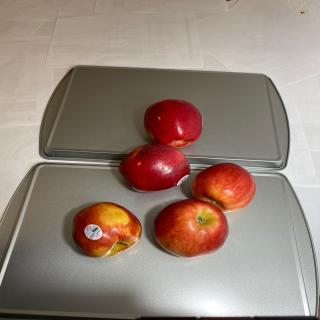Apple: (154, 198, 229, 258), (72, 202, 142, 258), (118, 142, 191, 192), (191, 162, 256, 213), (143, 98, 203, 148)
